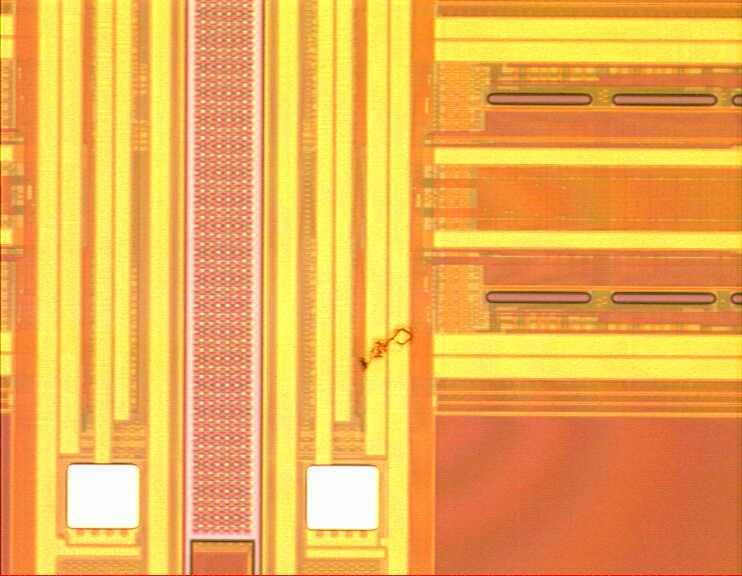PIQ PARTICLE: (358, 323, 417, 373)
